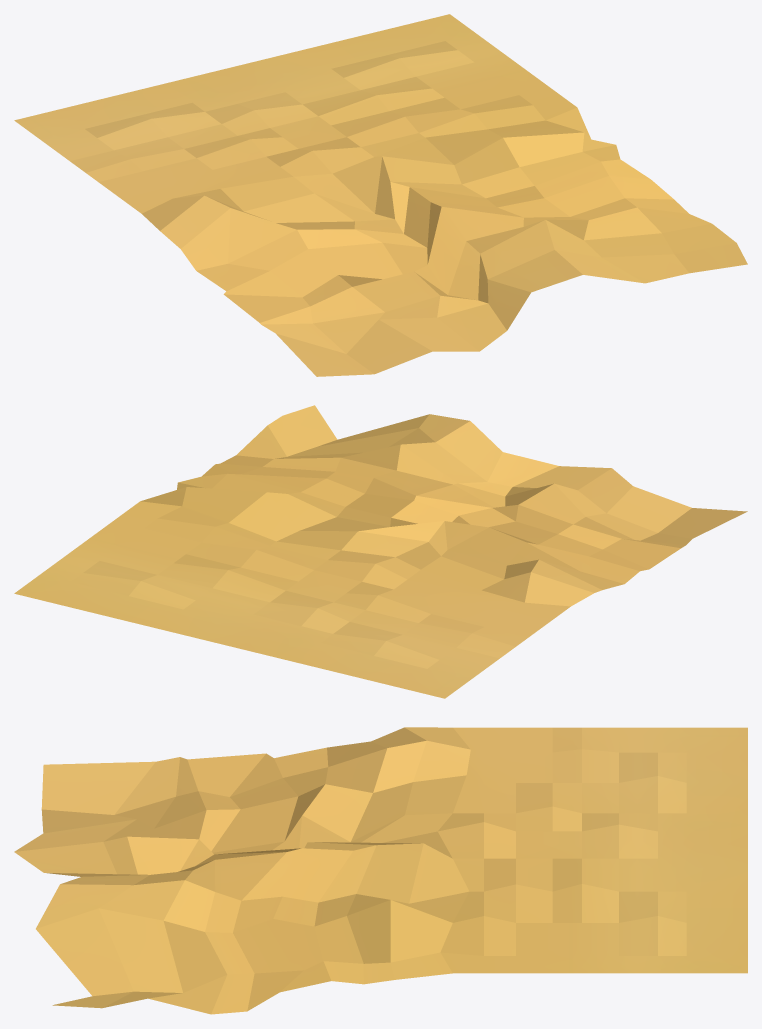
The model's file is RiverShore.fbx.
The picture shows the model from 3 angles, top to bottom: view 1: azimuth 30°, elevation 25°; view 2: azimuth 150°, elevation 25°; view 3: azimuth 270°, elevation 25°; orthographic projection. The views are drawn at different scales.
Visible parts, largest first — view 1: RiverShore; view 2: RiverShore; view 3: RiverShore.
Part boxes in pixels (x1,y1,x2,y2): RiverShore: (14, 14, 747, 376); RiverShore: (14, 405, 747, 698); RiverShore: (14, 727, 747, 1014).
Bounding box in the file's own units: 17.14 × 2.25 × 21.1.
